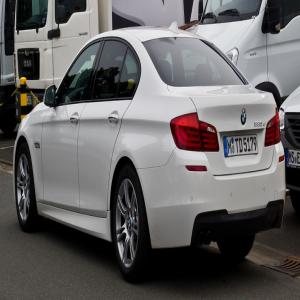Vehicle-registration-plate: (224, 129, 254, 162), (288, 150, 300, 170)
